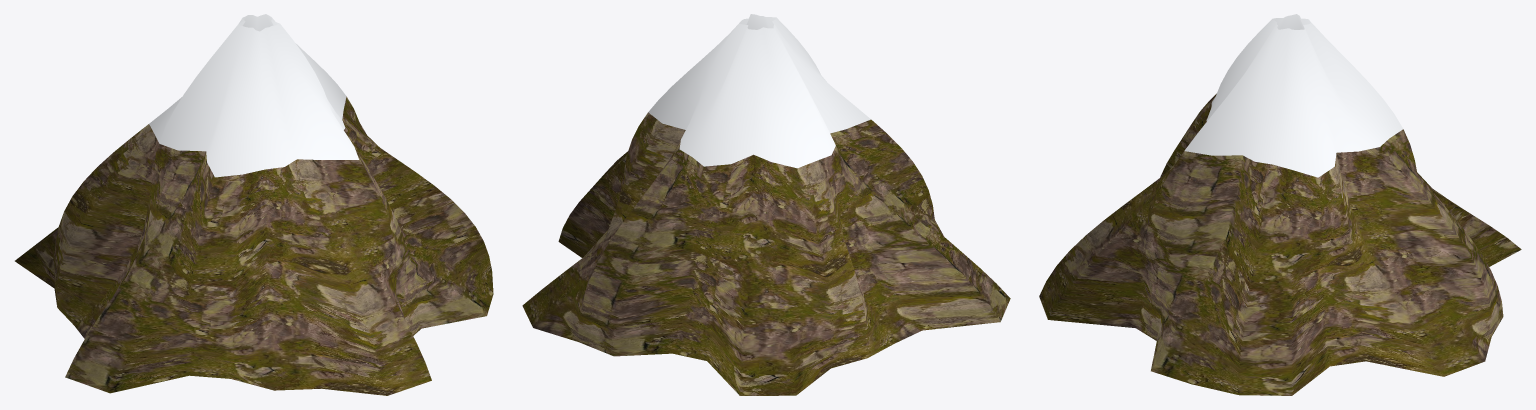
Rendered from mountain_peak.glb.
3 renders of one model, left to right at view 1: azimuth 30°, elevation 25°; view 2: azimuth 150°, elevation 25°; view 3: azimuth 270°, elevation 25°, orthographic. The views are drawn at different scales.
Parts seen in each view (by area): view 1: RootNode; view 2: RootNode; view 3: RootNode.
Part boxes in pixels (x1=…): RootNode: x1=15, y1=14, x2=493, y2=395; RootNode: x1=522, y1=14, x2=1010, y2=395; RootNode: x1=1039, y1=14, x2=1521, y2=395.
Size of the model in its own units: 1 by 0.62 by 0.9911.
2 materials, 1 textured.
